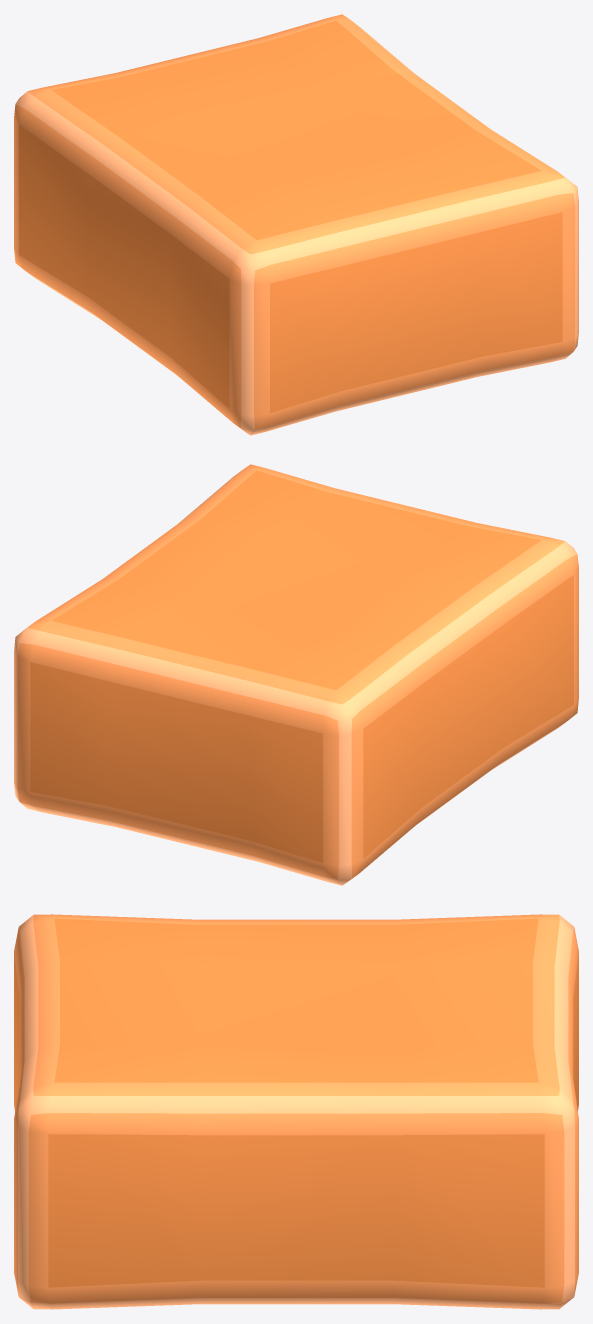
Rendered from CandyCaramel_01.glb.
3 views of the same model, one above another, from view 1: azimuth 30°, elevation 25°; view 2: azimuth 150°, elevation 25°; view 3: azimuth 270°, elevation 25° (orthographic). The views are drawn at different scales.
Parts seen in each view (by area): view 1: CandyCaramel_01; view 2: CandyCaramel_01; view 3: CandyCaramel_01.
Part boxes in pixels (bbox=[...]): CandyCaramel_01: bbox=[14, 14, 578, 435]; CandyCaramel_01: bbox=[14, 464, 578, 885]; CandyCaramel_01: bbox=[14, 914, 578, 1309].
Size of the model in its own units: 2.31 by 1.22 by 2.79.
Materials: 1 (1 with a texture image).
